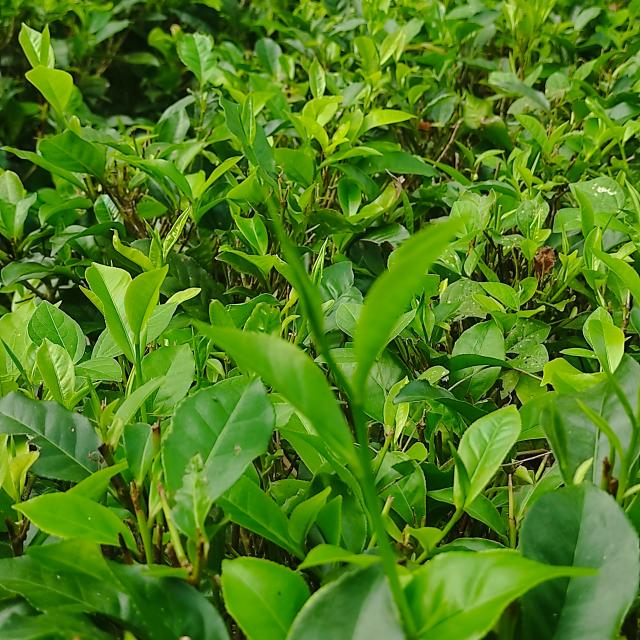unopened_leaf: (257, 172, 360, 400), (572, 391, 630, 462), (443, 436, 475, 506), (139, 212, 168, 258)
